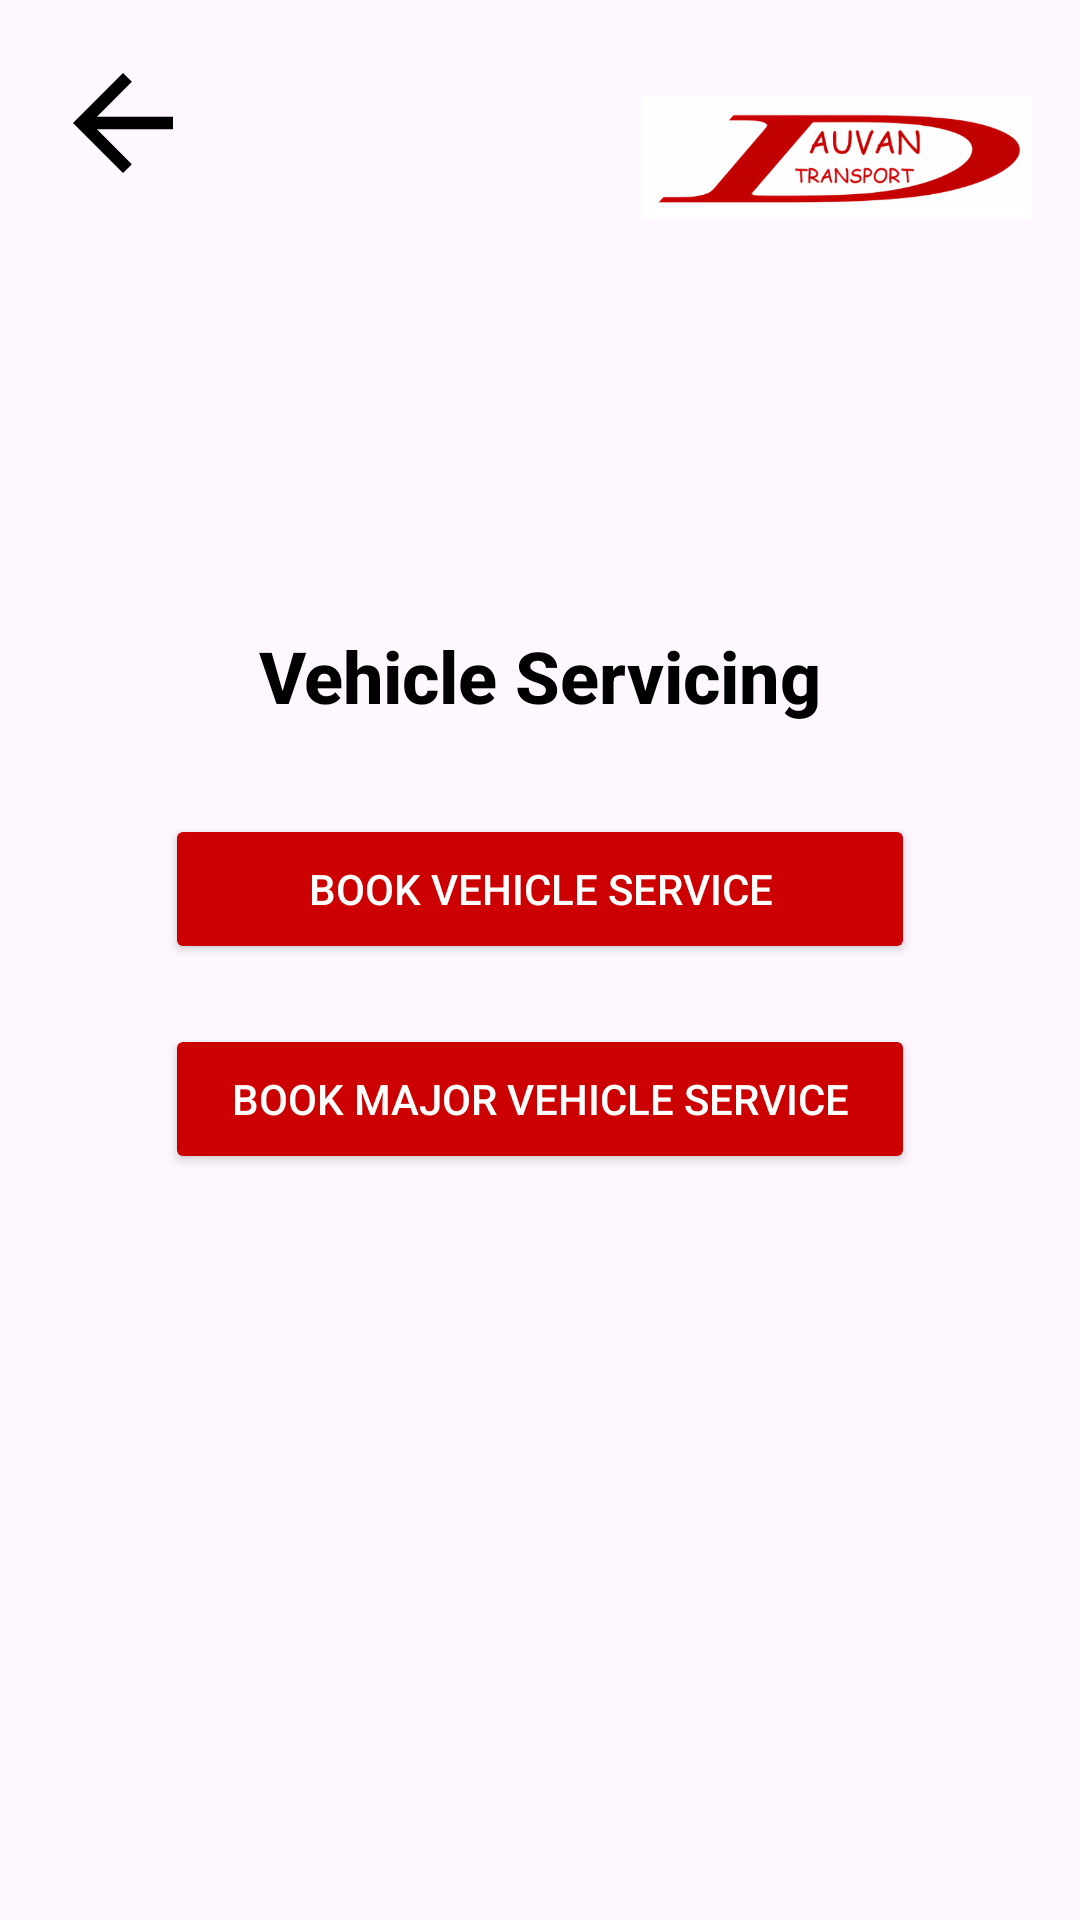

Screen size 1080px x 1920px. Icon name, then its center in pixels as point (x, y):
back arrow: point (123, 123)
